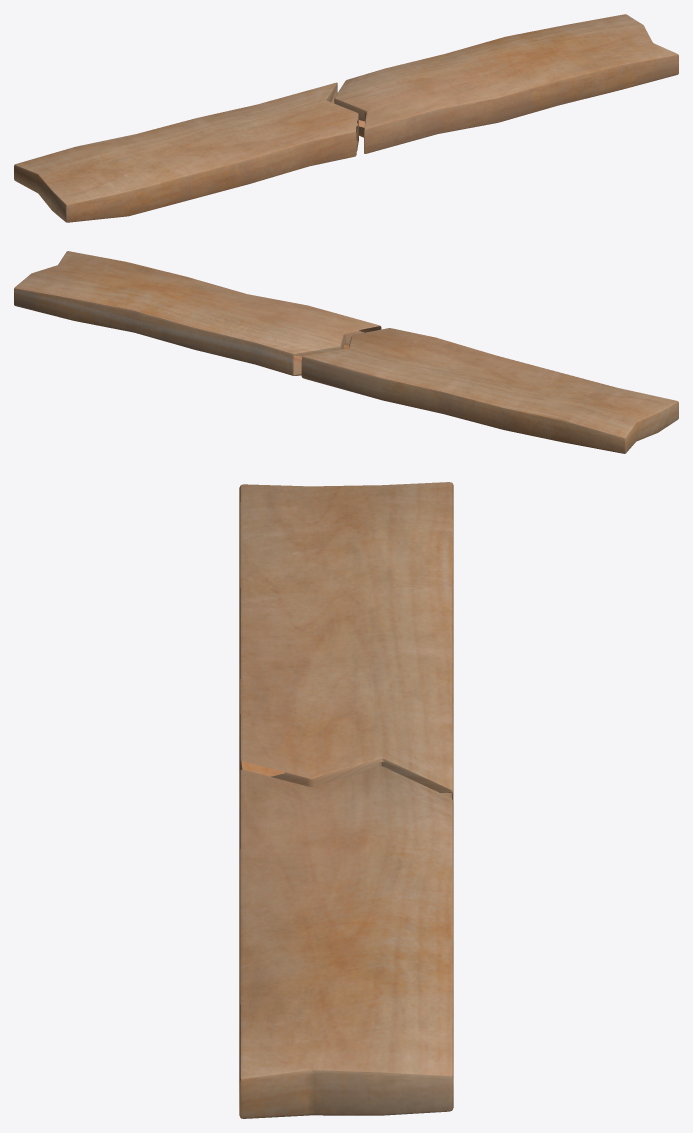
Rendered from Bkboard.fbx.
3 renders of one model, top to bottom at view 1: azimuth 30°, elevation 25°; view 2: azimuth 150°, elevation 25°; view 3: azimuth 270°, elevation 25°, orthographic. The views are drawn at different scales.
Parts seen in each view (by area): view 1: Bkboard, Bkboard2; view 2: Bkboard, Bkboard2; view 3: Bkboard2, Bkboard.
Part boxes in pixels (bbox=[...]): Bkboard: bbox=[14, 82, 358, 222]; Bkboard2: bbox=[334, 14, 678, 153]; Bkboard: bbox=[301, 328, 678, 453]; Bkboard2: bbox=[14, 251, 381, 375]; Bkboard2: bbox=[239, 766, 453, 1118]; Bkboard: bbox=[239, 482, 453, 801].
Size of the model in its own units: 171 by 11.02 by 25.88.
